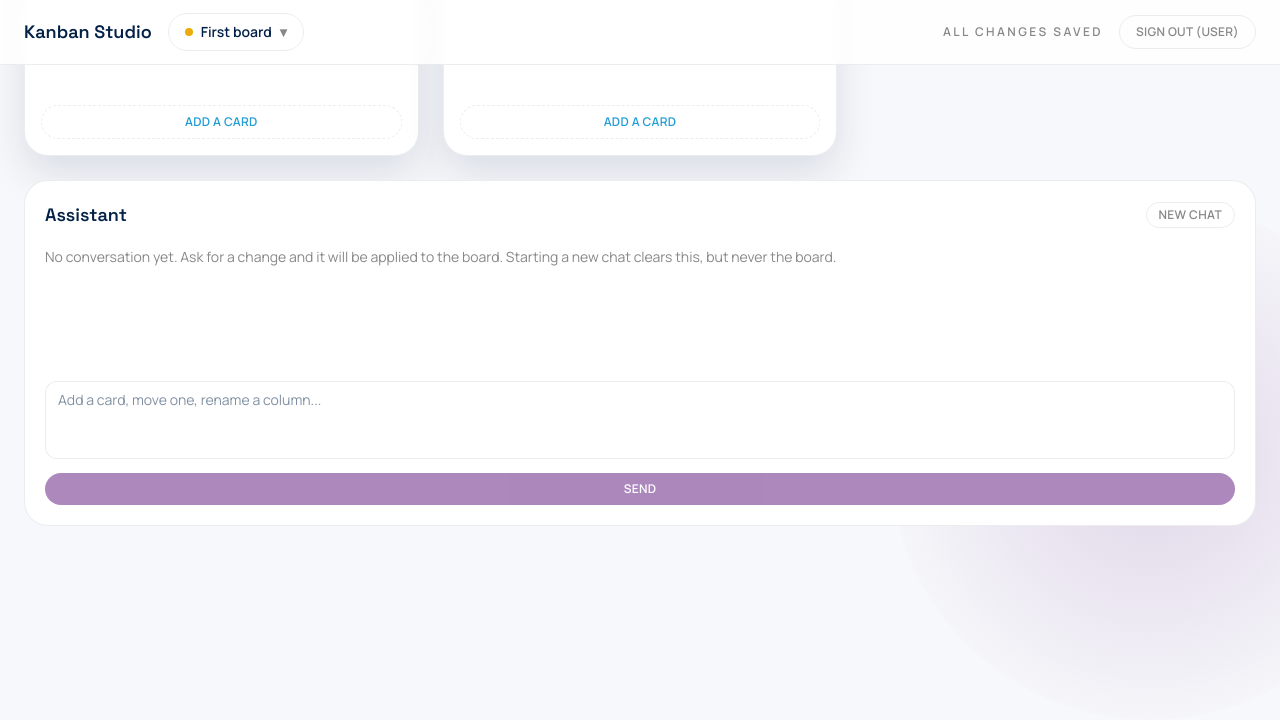
chat sidebar › updates the visible board from the response, with no reload
(page scrolled)
Expected: the heading "Kanban Studio" is shown, [24, 18, 152, 46]
Expected: the element with test id "chat-sidebar" is shown, [24, 180, 1256, 526]
In the text box named "Message": point(640, 420) [45, 381, 1235, 459], type "add a card"
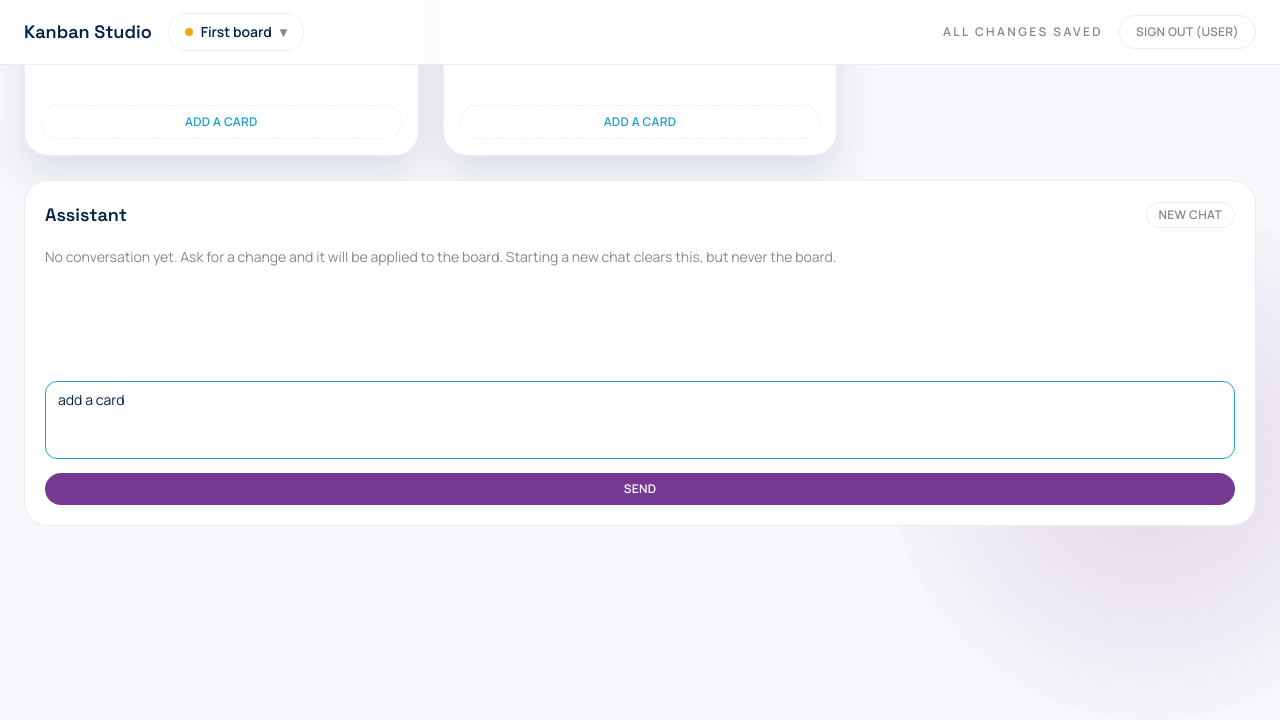
Click the button "Send": point(640, 489) [45, 473, 1235, 505]
(page scrolled)
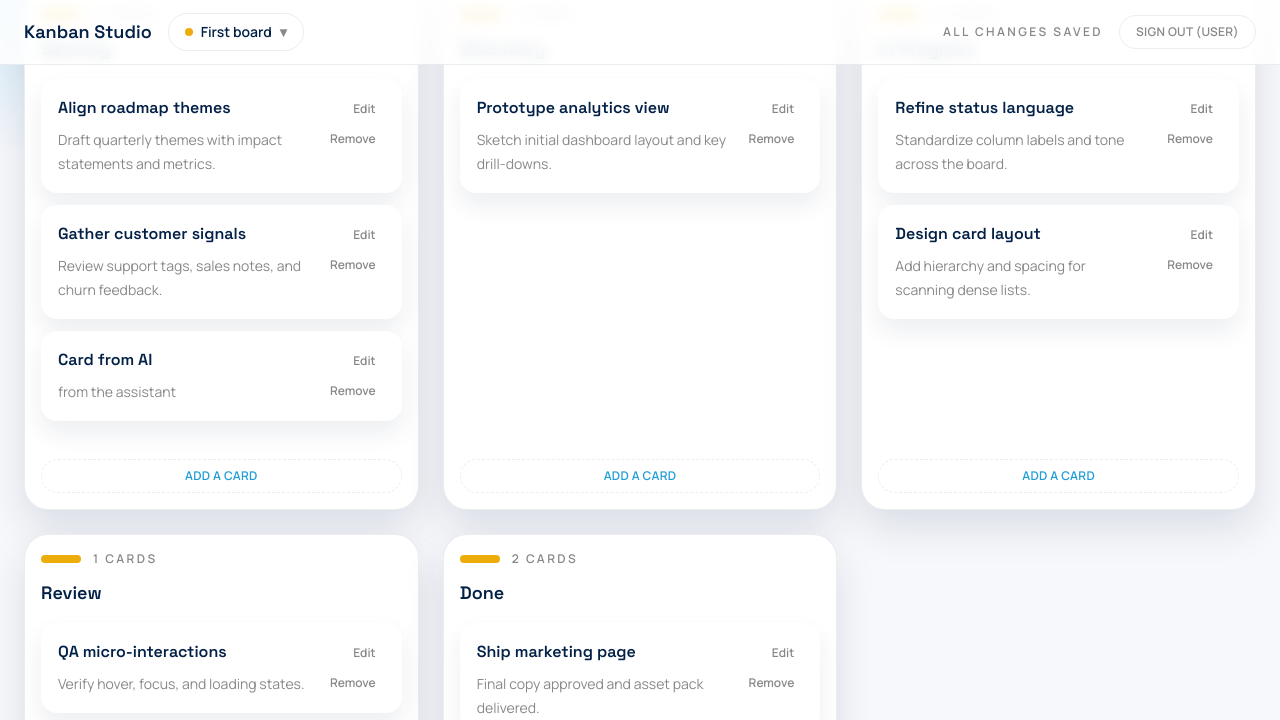
Expected: the heading "Card from AI" is shown, [58, 349, 152, 370]
